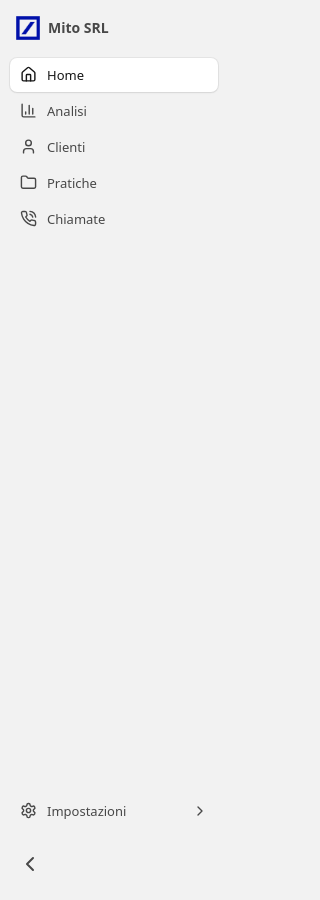
Test: DashboardLayout, barra laterale nel cookie (AC31) › chiudere e riaprire cambia subito la barra, scrive mito-pref-ds e non fa nessuna fetch
This screenshot has width=320, height=900.
Expected: the text "Mito SRL" is shown, [48,18,109,38]
Click the 2nd button at [30, 864], box [10,844,50,884]
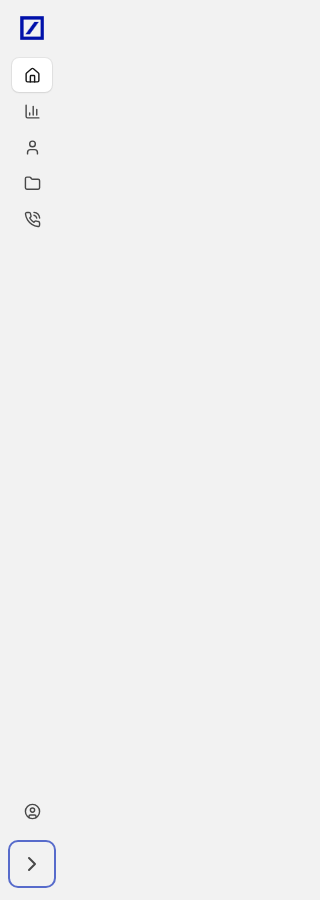
Expected: the text "Mito SRL" is gone
Click the button at [32, 864], box [12,844,52,884]
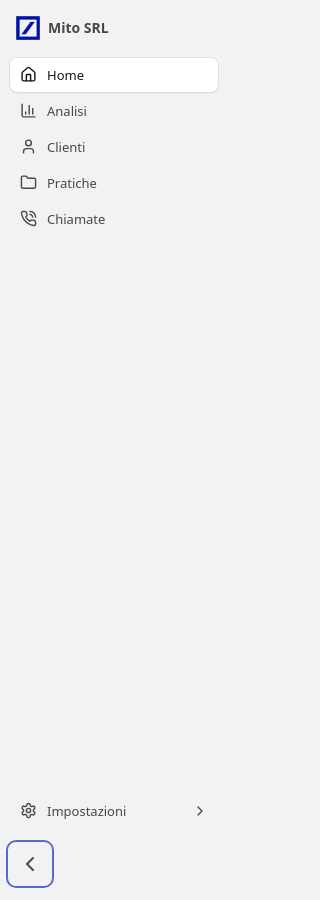
Expected: the text "Mito SRL" is shown, [48,18,109,38]
